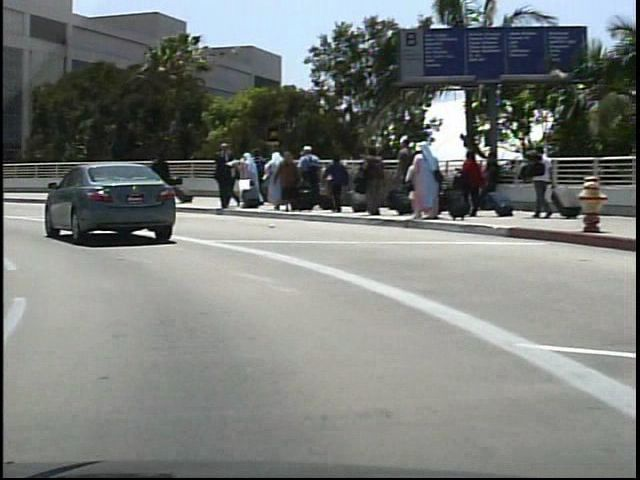person: (518, 140, 551, 224), (209, 139, 233, 216), (142, 148, 170, 212), (214, 147, 238, 209), (154, 153, 173, 196)
